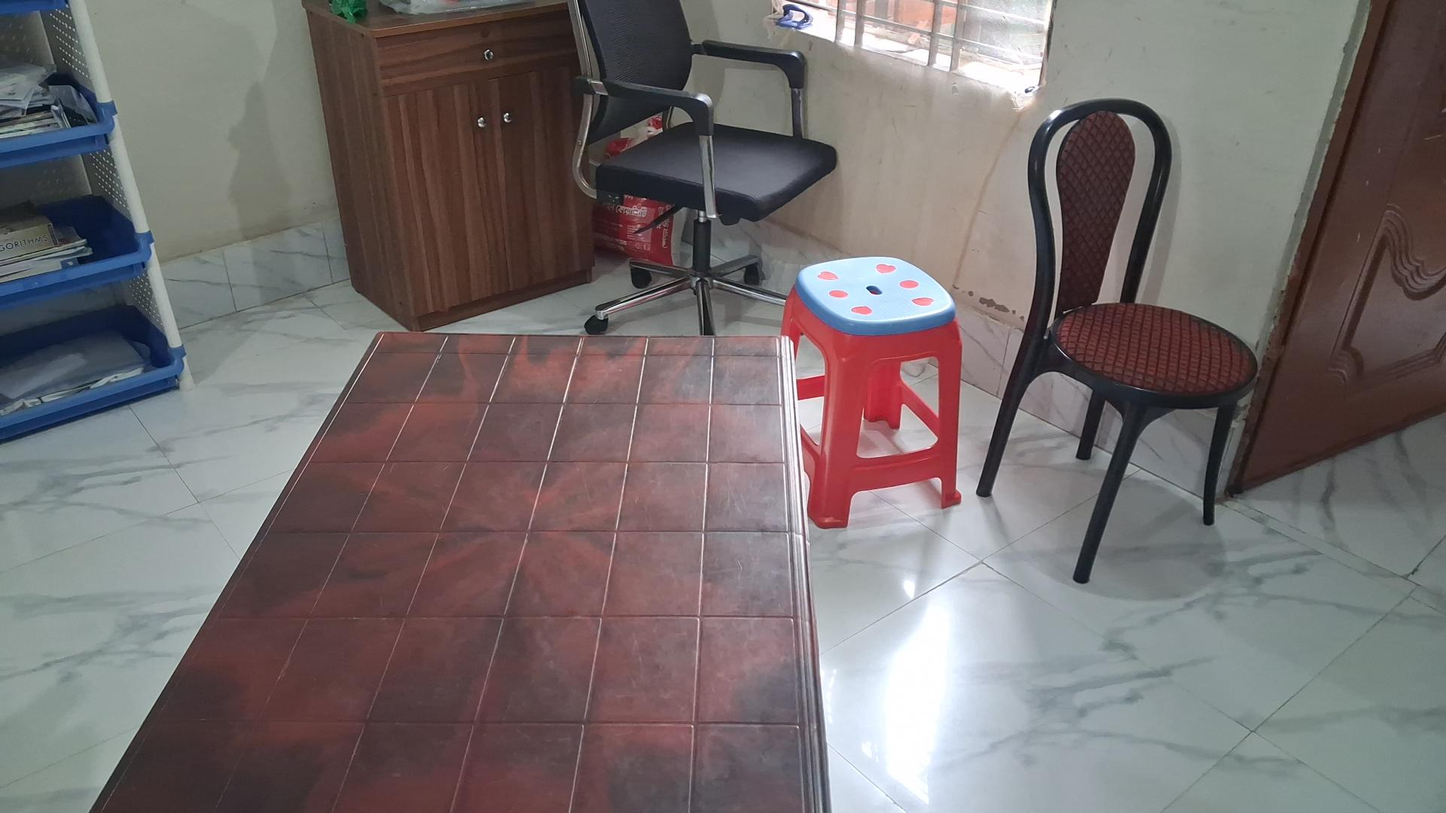Chair: (974, 97, 1258, 586), (567, 1, 839, 336)
Stool: (784, 254, 961, 524)
Table: (88, 334, 829, 813)
